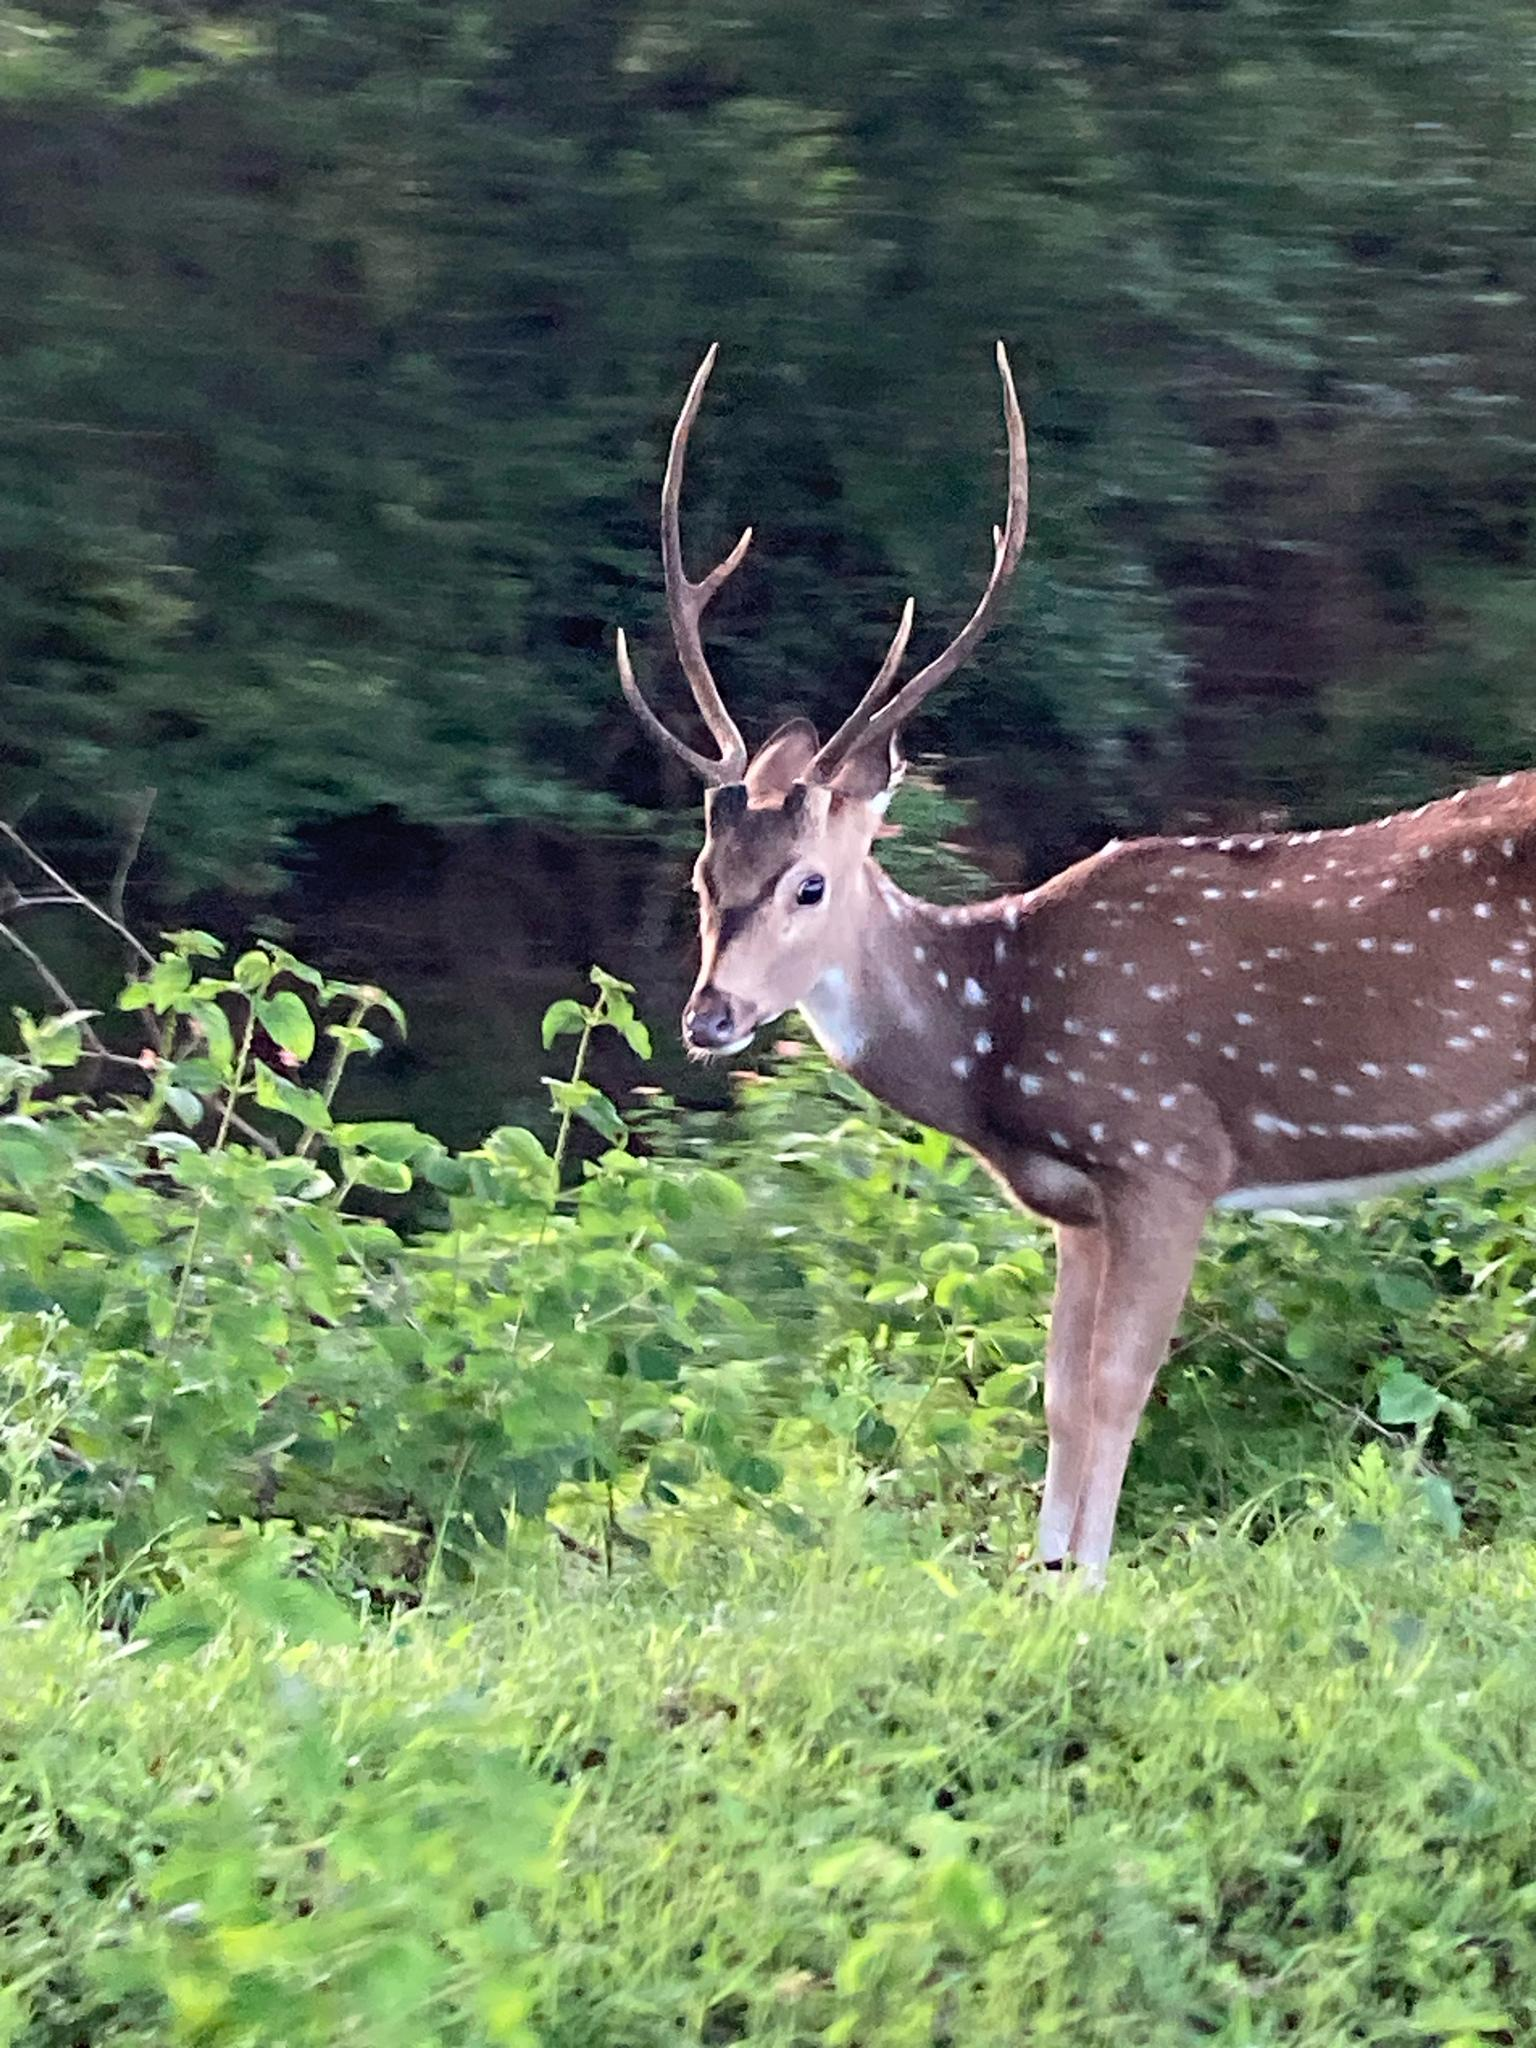Deer: (615, 340, 1534, 1579)
